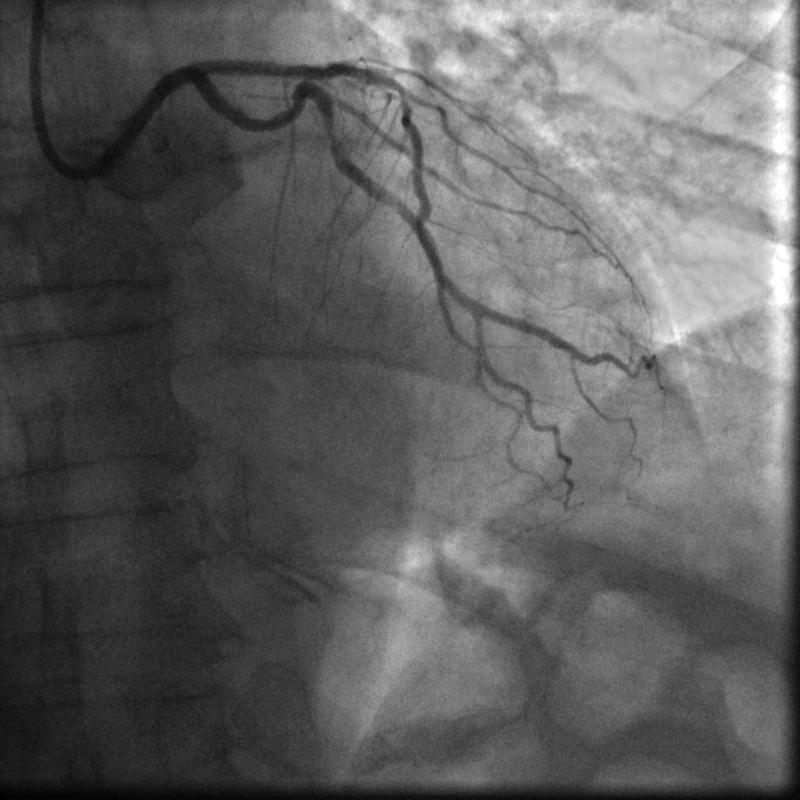Stenosis: (325, 129, 342, 147)
